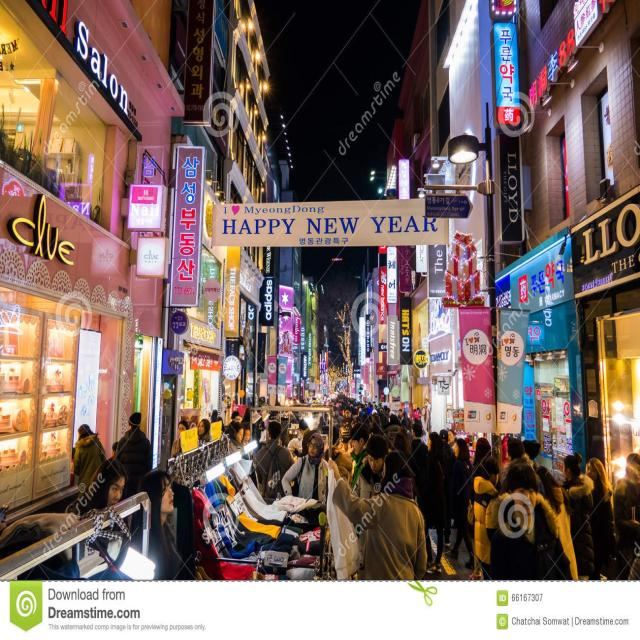body: (326, 448, 429, 582), (490, 460, 574, 581), (270, 387, 432, 430), (129, 469, 183, 581), (64, 457, 128, 550), (351, 434, 390, 580), (532, 464, 580, 580), (416, 430, 450, 574), (561, 451, 597, 580), (446, 434, 479, 572), (254, 419, 300, 506), (584, 456, 615, 581), (280, 430, 330, 506), (466, 436, 492, 581), (471, 456, 501, 581), (72, 422, 108, 522), (115, 411, 153, 503), (613, 452, 640, 581), (498, 436, 546, 502), (348, 421, 374, 539), (439, 428, 457, 548), (409, 420, 429, 470), (214, 414, 229, 478), (298, 417, 320, 457), (240, 422, 256, 476), (169, 418, 190, 458), (225, 420, 246, 453), (522, 438, 542, 470), (386, 414, 402, 453), (209, 409, 225, 442), (196, 417, 212, 449), (340, 406, 356, 436), (397, 424, 412, 456), (414, 417, 429, 446), (500, 431, 509, 463), (69, 444, 75, 485), (448, 429, 458, 452), (231, 410, 241, 423), (108, 442, 116, 458), (531, 460, 538, 470)
